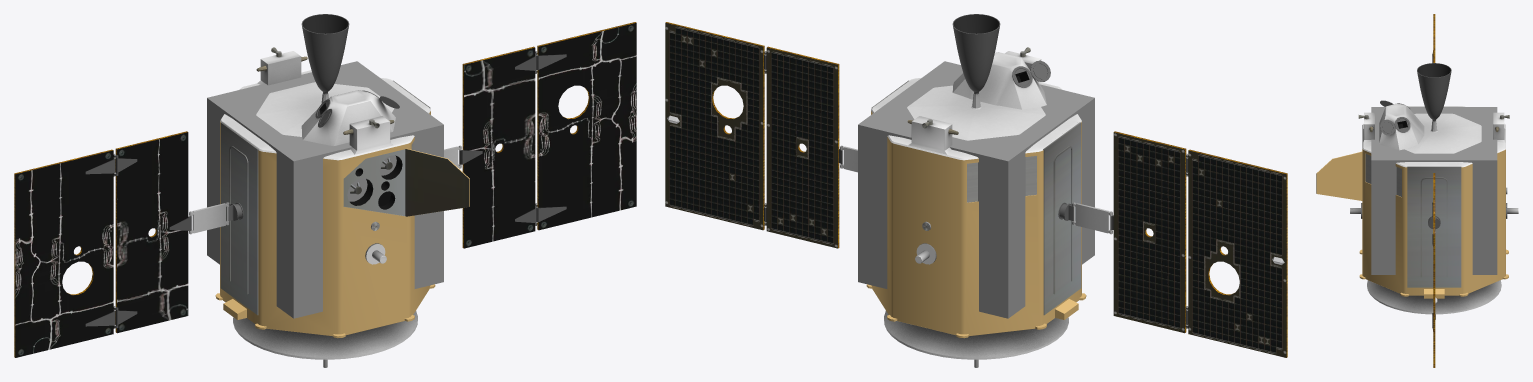
Rendered from clementine.glb.
3 renders of one model, left to right at view 1: azimuth 30°, elevation 25°; view 2: azimuth 150°, elevation 25°; view 3: azimuth 270°, elevation 25°, orthographic. The views are drawn at different scales.
Visible parts, largest first — view 1: tex_01, _root, foil_gold, foil_white, AO_dish, AO_hinges; view 2: shiny_panel, foil_gold, _root, tex_01, foil_white, AO_dish, AO_hinges; view 3: tex_01, _root, foil_gold, foil_white, AO_dish.
Boxes of the visible parts, bbox=[...] form: tex_01: bbox=[14, 14, 636, 357]; _root: bbox=[207, 61, 443, 318]; foil_gold: bbox=[215, 111, 469, 338]; foil_white: bbox=[220, 51, 430, 160]; AO_dish: bbox=[233, 243, 417, 367]; AO_hinges: bbox=[85, 51, 566, 328]; shiny_panel: bbox=[665, 23, 1286, 357]; foil_gold: bbox=[866, 111, 1086, 338]; _root: bbox=[858, 61, 1094, 318]; tex_01: bbox=[665, 14, 1287, 357]; foil_white: bbox=[871, 51, 1081, 160]; AO_dish: bbox=[884, 243, 1068, 367]; AO_hinges: bbox=[764, 51, 1188, 328]; tex_01: bbox=[1358, 14, 1509, 367]; _root: bbox=[1371, 107, 1497, 274]; foil_gold: bbox=[1316, 149, 1508, 298]; foil_white: bbox=[1362, 103, 1505, 167]; AO_dish: bbox=[1350, 203, 1518, 319].
Size of the model in its own units: 4.13 by 2.18 by 1.6.
Materials: 8 (5 with a texture image).
